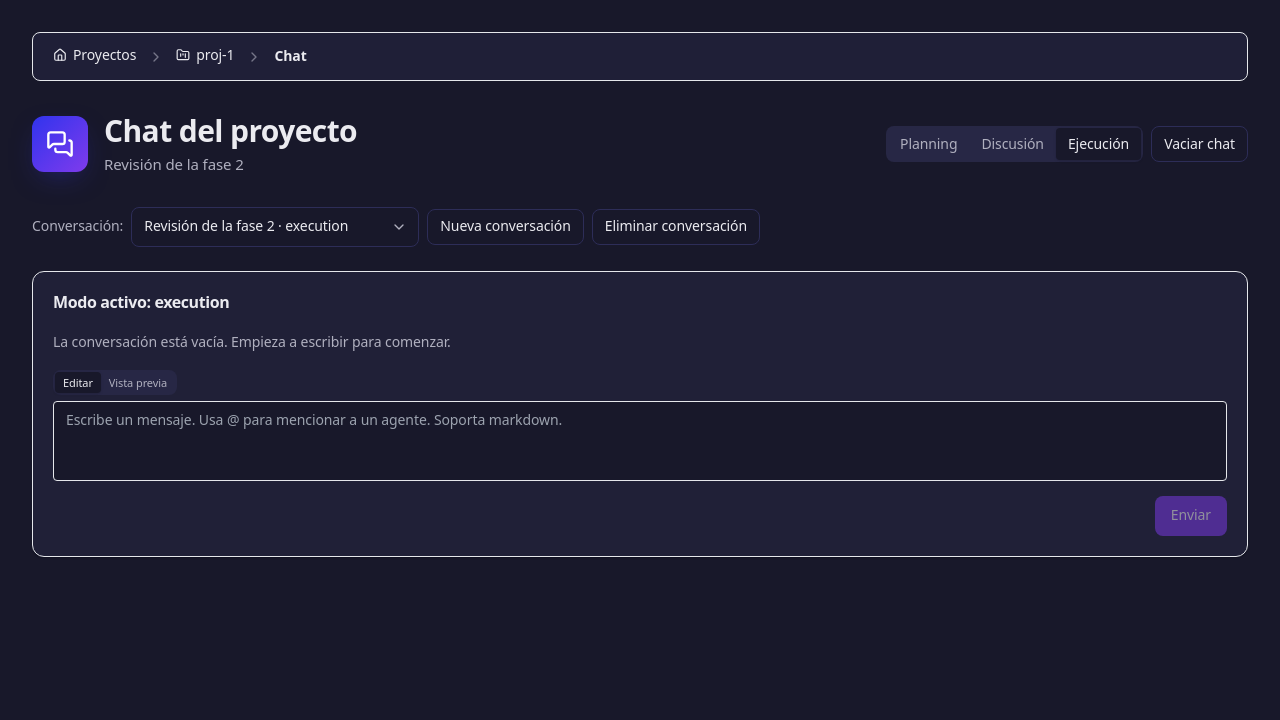
Test case: Chat del proyecto — barra de historial de conversaciones › arranca en la más reciente y cambiar de activa recarga SU feed
The width and height of the screenshot is (1280, 720).
Expected: the text with test id "chat-current-mode" reads "execution", top-left (154, 291), bottom-right (229, 313)
Select "Arranque del proyecto · planning" in the dropdown with test id "conversation-picker" at (275, 227), box top-left (131, 207), bottom-right (419, 247)
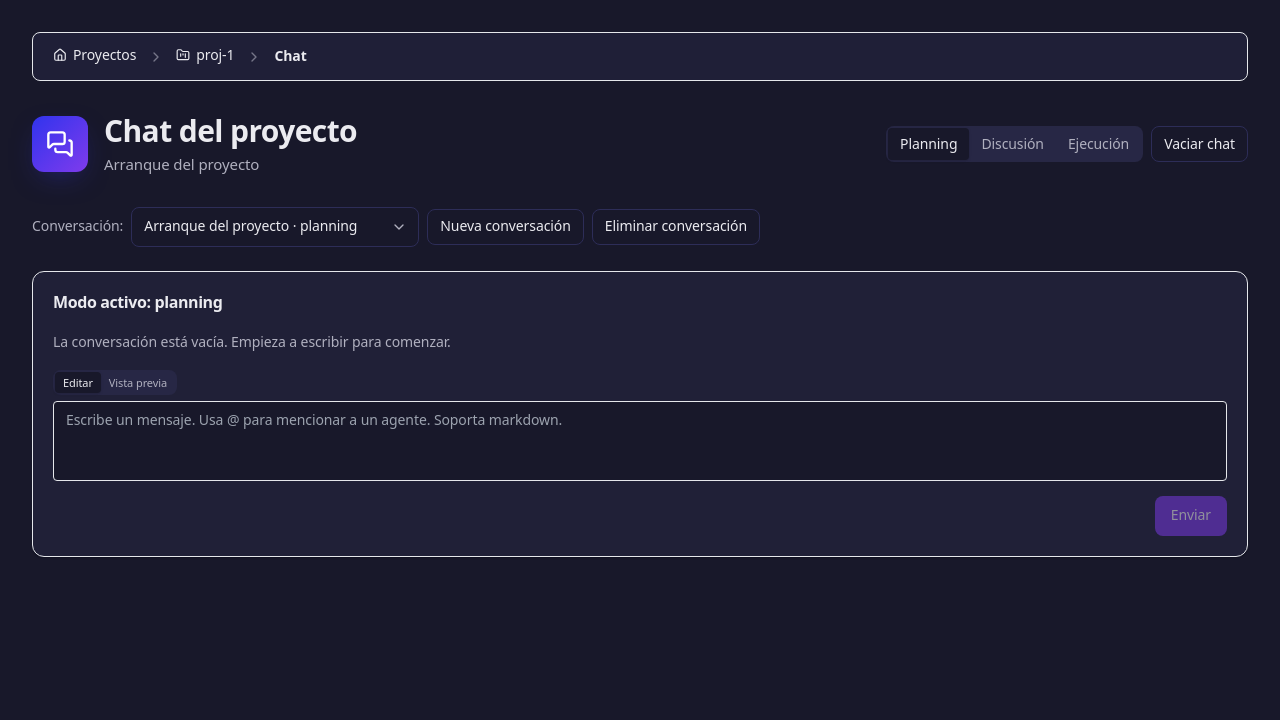
Now the text with test id "chat-current-mode" reads "planning", box top-left (154, 291), bottom-right (222, 313)
